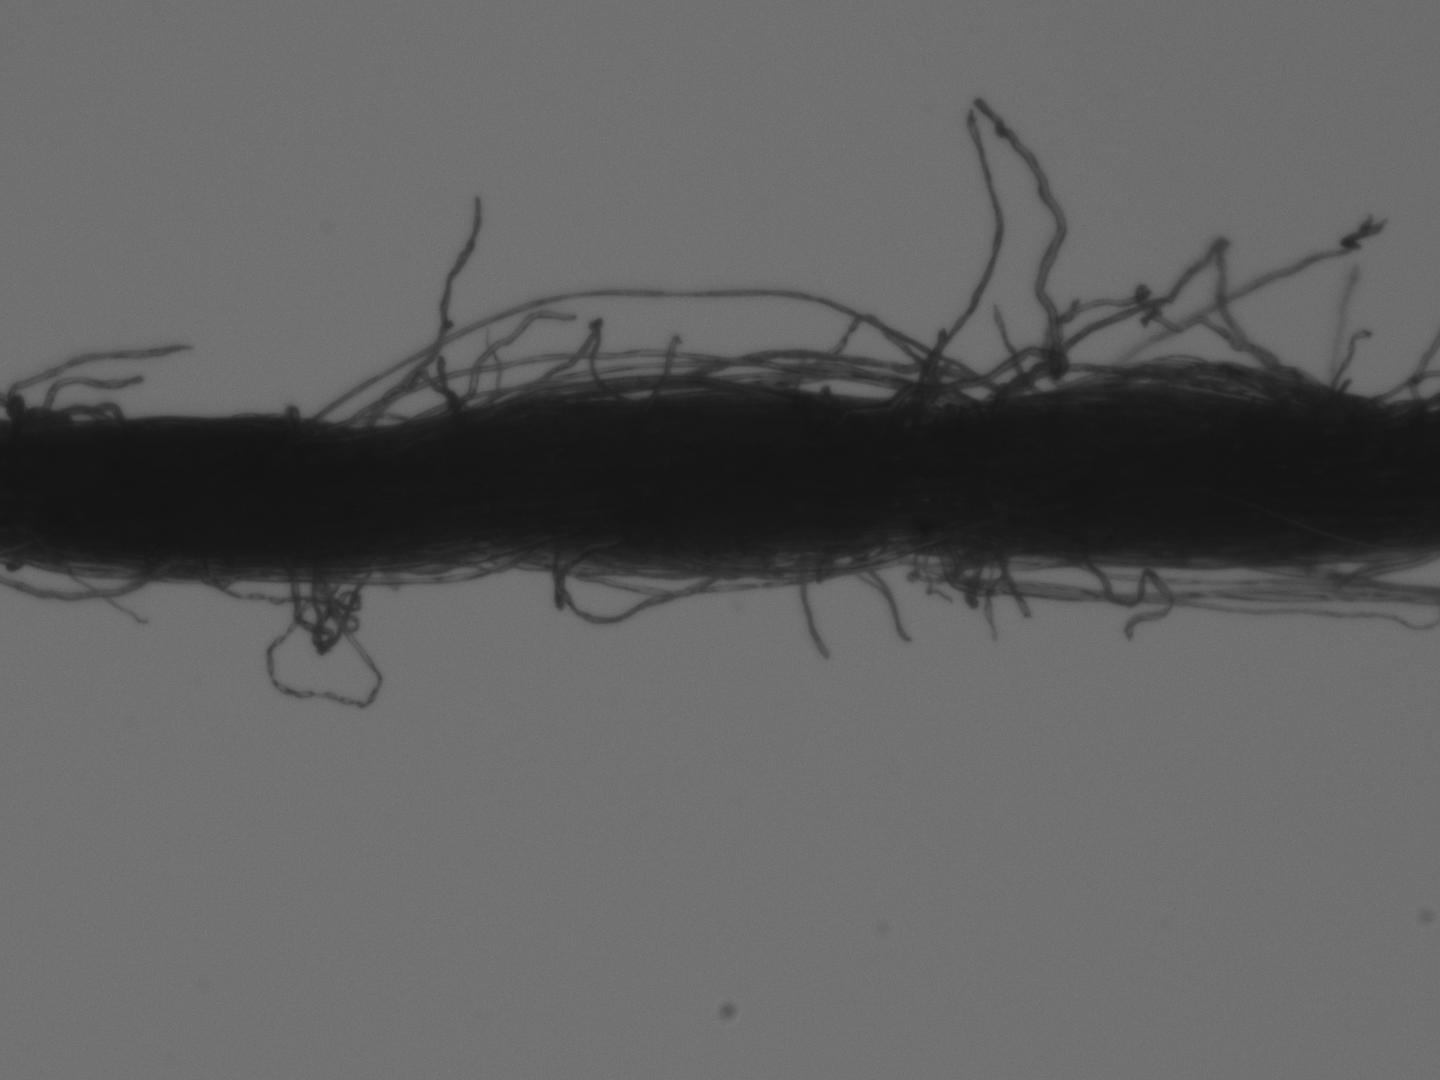loop_fiber: (257, 569, 395, 712), (981, 349, 1272, 408), (692, 348, 981, 406), (557, 541, 732, 631), (495, 372, 778, 400), (730, 541, 937, 580), (282, 573, 366, 652), (366, 362, 458, 431), (935, 541, 1011, 608), (5, 382, 120, 421)
protruding_fiber: (794, 563, 833, 665), (41, 370, 149, 404)
